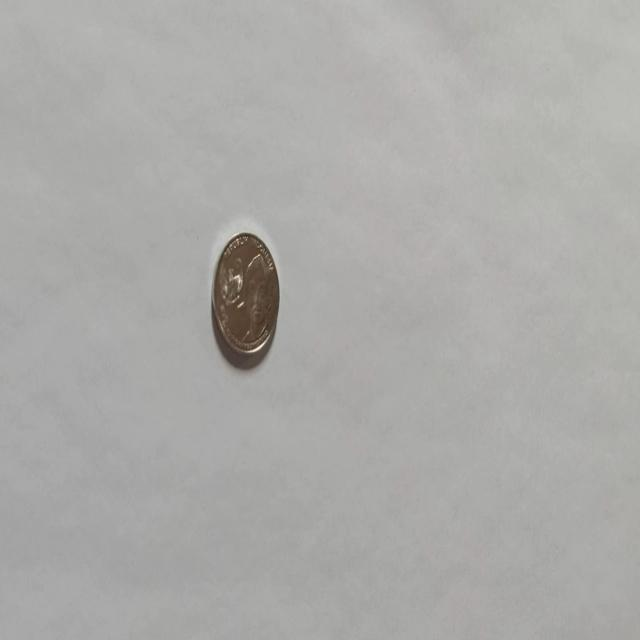dua ratus rupiah: (211, 229, 280, 360)
